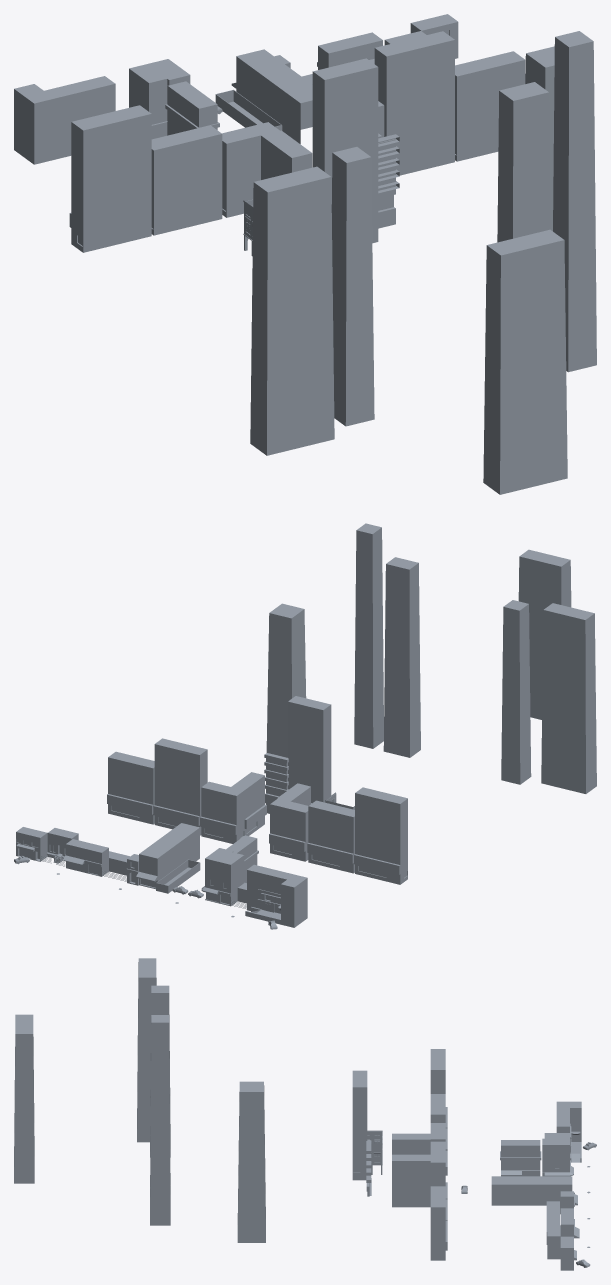
The model's file is city_1_1_proxy_buildings.fbx.
3 renders of one model, top to bottom at view 1: azimuth 30°, elevation 25°; view 2: azimuth 150°, elevation 25°; view 3: azimuth 270°, elevation 25°, orthographic. The views are drawn at different scales.
Parts seen in each view (by area): view 1: city_buildings; view 2: city_buildings; view 3: city_buildings.
Boxes of the visible parts, x1,y1,x2,y2 form: city_buildings: (14,14,596,494); city_buildings: (14,523,596,929); city_buildings: (14,958,596,1270).
Bounding box in the file's own units: 10373 × 6053 × 15795.
